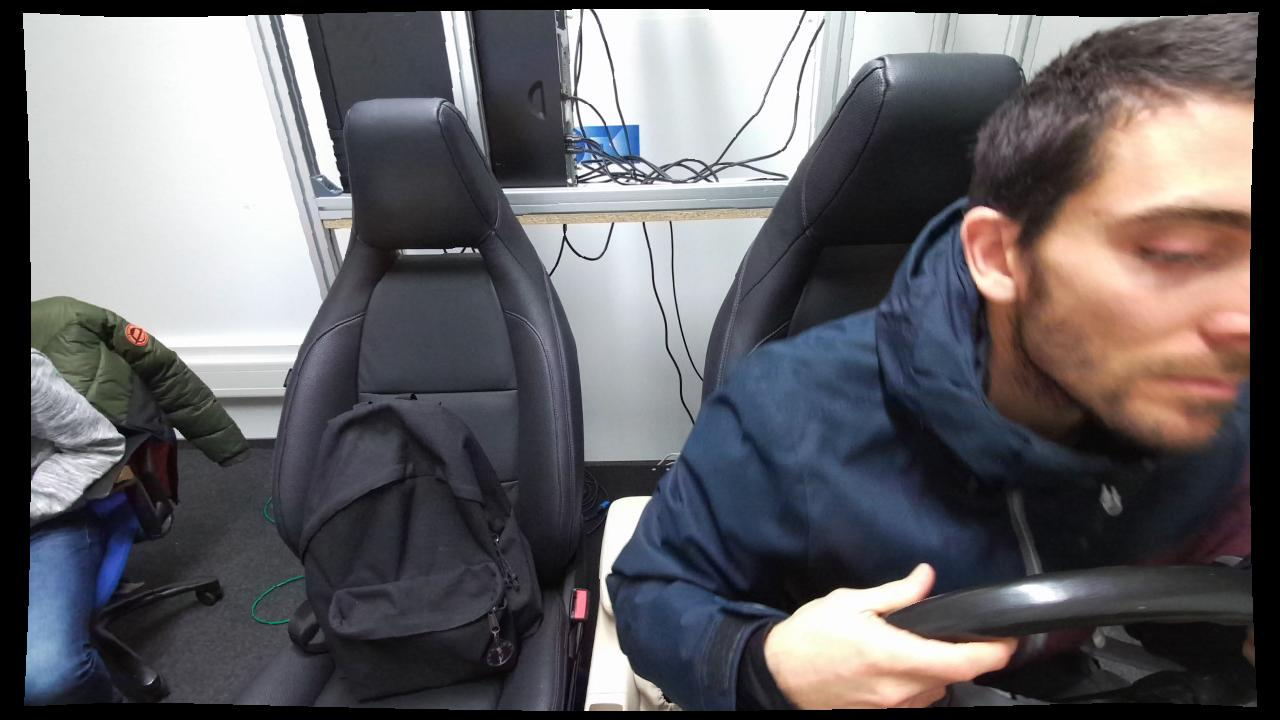Distracted: (608, 15, 1260, 713)
